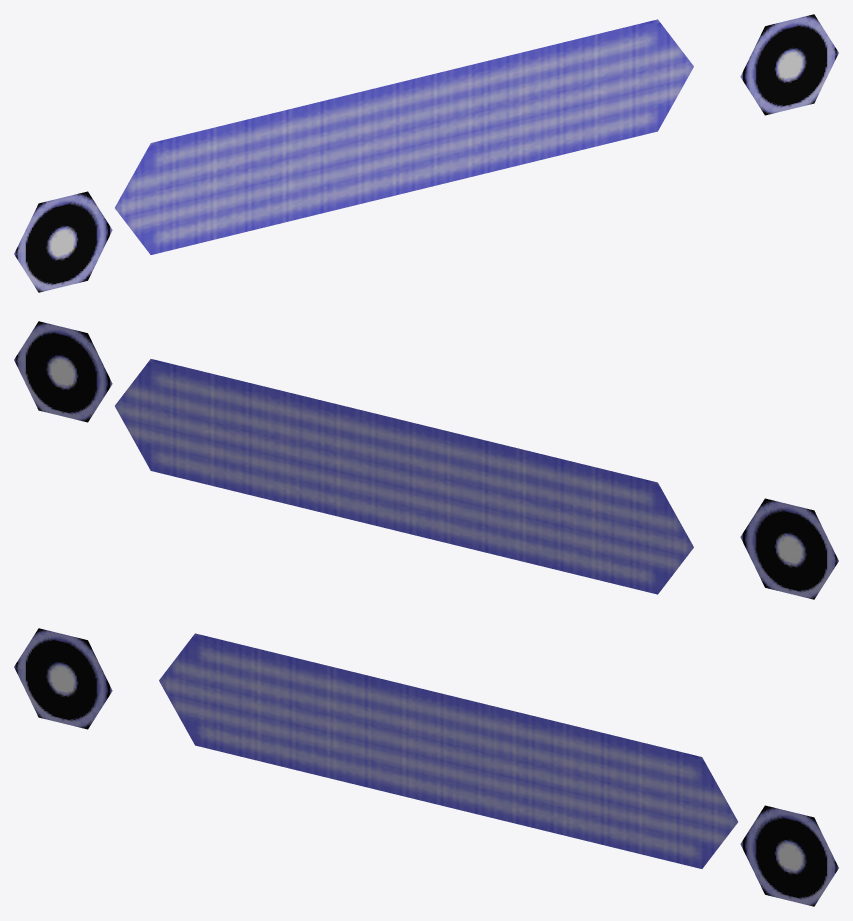
File: yt1300_engine_s02_on_l1.fbx
The picture shows the model from 3 angles, top to bottom: view 1: azimuth 30°, elevation 25°; view 2: azimuth 150°, elevation 25°; view 3: azimuth 330°, elevation 25°; orthographic projection.
Parts seen in each view (by area): view 1: mesh_node; view 2: mesh_node; view 3: mesh_node.
Part boxes in pixels (bbox=[...]): mesh_node: bbox=[14, 14, 838, 292]; mesh_node: bbox=[14, 321, 838, 599]; mesh_node: bbox=[14, 628, 838, 906].
Bounding box in the file's own units: 10.68 × 1.39 × 0.4962.
1 material, 1 textured.
